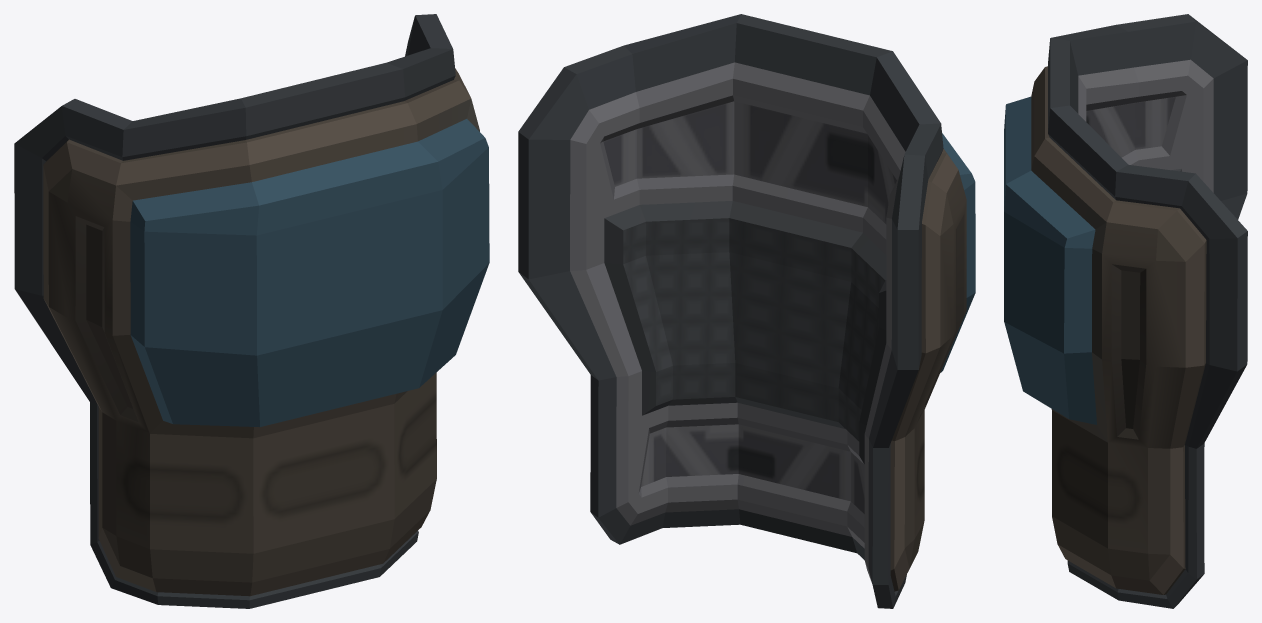
Rendered from SM_Mech_Arm_01_Armor_Shoulder_05.fbx.
3 views of the same model, side by side, from view 1: azimuth 30°, elevation 25°; view 2: azimuth 150°, elevation 25°; view 3: azimuth 270°, elevation 25° (orthographic). The views are drawn at different scales.
Visible parts, largest first — view 1: SM_Mech_Arm_01_Armor_Shoulder_05; view 2: SM_Mech_Arm_01_Armor_Shoulder_05; view 3: SM_Mech_Arm_01_Armor_Shoulder_05.
Part boxes in pixels (x1=…): SM_Mech_Arm_01_Armor_Shoulder_05: x1=14, y1=14, x2=489, y2=608; SM_Mech_Arm_01_Armor_Shoulder_05: x1=518, y1=14, x2=975, y2=608; SM_Mech_Arm_01_Armor_Shoulder_05: x1=1004, y1=14, x2=1247, y2=608.
Bounding box in the file's own units: 91 × 107 × 50.4.
